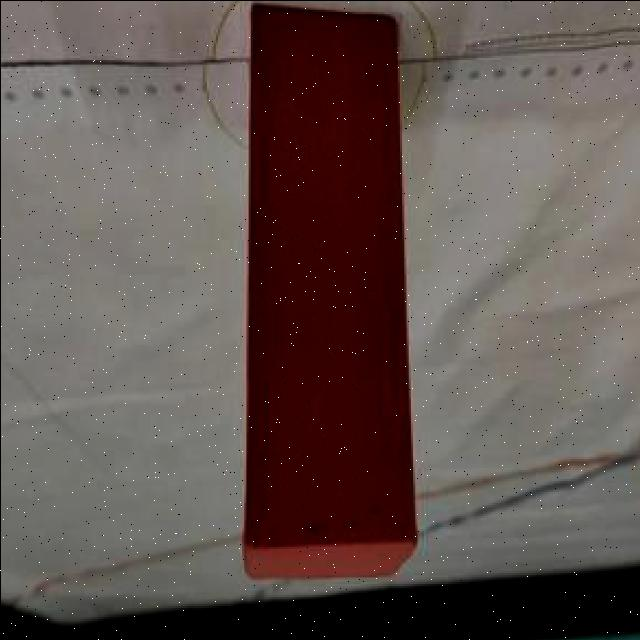redbox: (244, 0, 416, 583)
